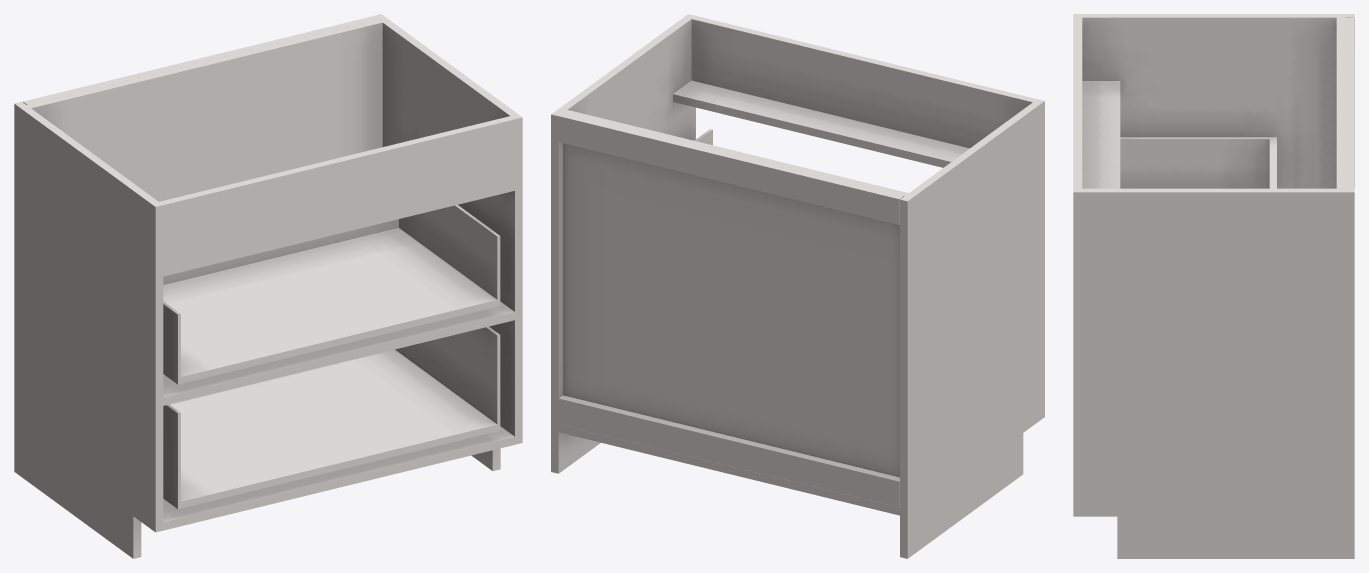
File: cooktop-2-drawer-base-doors-off.glb
3 renders of one model, left to right at view 1: azimuth 30°, elevation 25°; view 2: azimuth 150°, elevation 25°; view 3: azimuth 270°, elevation 25°, orthographic. The views are drawn at different scales.
Parts seen in each view (by area): view 1: part_2, part_0; view 2: part_2; view 3: part_2, part_0.
Boxes of the visible parts, left/top/right/bottom form: part_2: left=14, top=14, right=522, bottom=558; part_0: left=163, top=205, right=500, bottom=509; part_2: left=551, top=14, right=1044, bottom=558; part_2: left=1073, top=14, right=1354, bottom=558; part_0: left=1120, top=137, right=1276, bottom=188.
Size of the model in its own units: 0.9144 by 0.8763 by 0.6096.
Materials: 2 (1 with a texture image).
